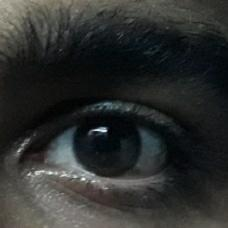open: (0, 86, 228, 223)
